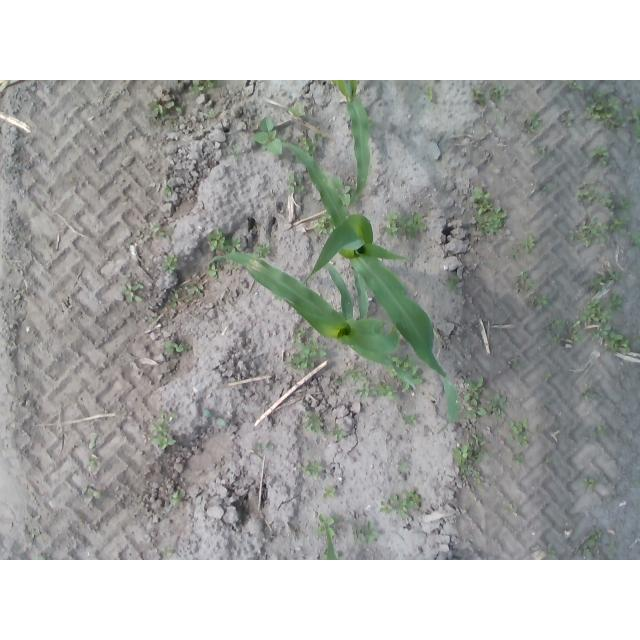Maize: (282, 143, 459, 434), (206, 252, 419, 392), (331, 80, 371, 208), (324, 525, 336, 560)
Weeds: (568, 298, 633, 354), (568, 213, 631, 247), (452, 432, 488, 489), (280, 328, 326, 372), (471, 187, 506, 236), (585, 93, 623, 132), (253, 117, 287, 157), (380, 487, 421, 519), (382, 211, 426, 239), (461, 376, 488, 418), (151, 410, 178, 451), (355, 381, 402, 401), (587, 269, 620, 295), (120, 275, 144, 305), (577, 529, 600, 559), (515, 268, 539, 296), (146, 102, 182, 120), (314, 514, 338, 539), (510, 418, 531, 446), (332, 178, 352, 206), (301, 411, 324, 435), (299, 132, 322, 155), (286, 174, 307, 197), (522, 111, 543, 134), (164, 341, 189, 360), (206, 228, 225, 252), (578, 185, 597, 208), (189, 80, 215, 96), (315, 214, 334, 235), (203, 409, 225, 427), (365, 521, 382, 544), (628, 106, 640, 138), (441, 272, 460, 292), (303, 460, 322, 480), (346, 368, 370, 383), (226, 143, 243, 163), (489, 394, 507, 412), (225, 235, 242, 254), (471, 86, 487, 106), (528, 294, 548, 310), (392, 353, 413, 368), (351, 521, 364, 545), (330, 423, 347, 441), (599, 188, 614, 208), (82, 486, 103, 500), (254, 242, 271, 259), (490, 85, 506, 103), (609, 295, 624, 314), (87, 455, 102, 474), (286, 103, 306, 117), (589, 148, 612, 160), (410, 366, 425, 384), (163, 254, 178, 272), (615, 195, 634, 209), (401, 414, 420, 427), (186, 282, 206, 294), (150, 222, 165, 238), (501, 501, 517, 516), (606, 542, 619, 559), (171, 288, 182, 308), (525, 233, 537, 251), (171, 490, 185, 505), (566, 81, 586, 91), (562, 113, 575, 128), (580, 478, 596, 490), (511, 248, 524, 262), (161, 546, 176, 558), (629, 232, 640, 247), (593, 424, 608, 435), (399, 459, 410, 474), (209, 263, 220, 278), (203, 109, 221, 118), (323, 486, 335, 499), (425, 86, 435, 100), (545, 548, 556, 560), (532, 145, 545, 155), (265, 441, 275, 453), (544, 373, 554, 384), (335, 377, 345, 388), (89, 441, 99, 452), (551, 318, 561, 328), (539, 184, 549, 193), (513, 453, 523, 462), (136, 230, 145, 240), (163, 187, 173, 196), (582, 390, 591, 398), (553, 334, 560, 343), (511, 356, 519, 363), (257, 444, 263, 452), (369, 118, 374, 126), (147, 318, 154, 323), (546, 457, 550, 463)
